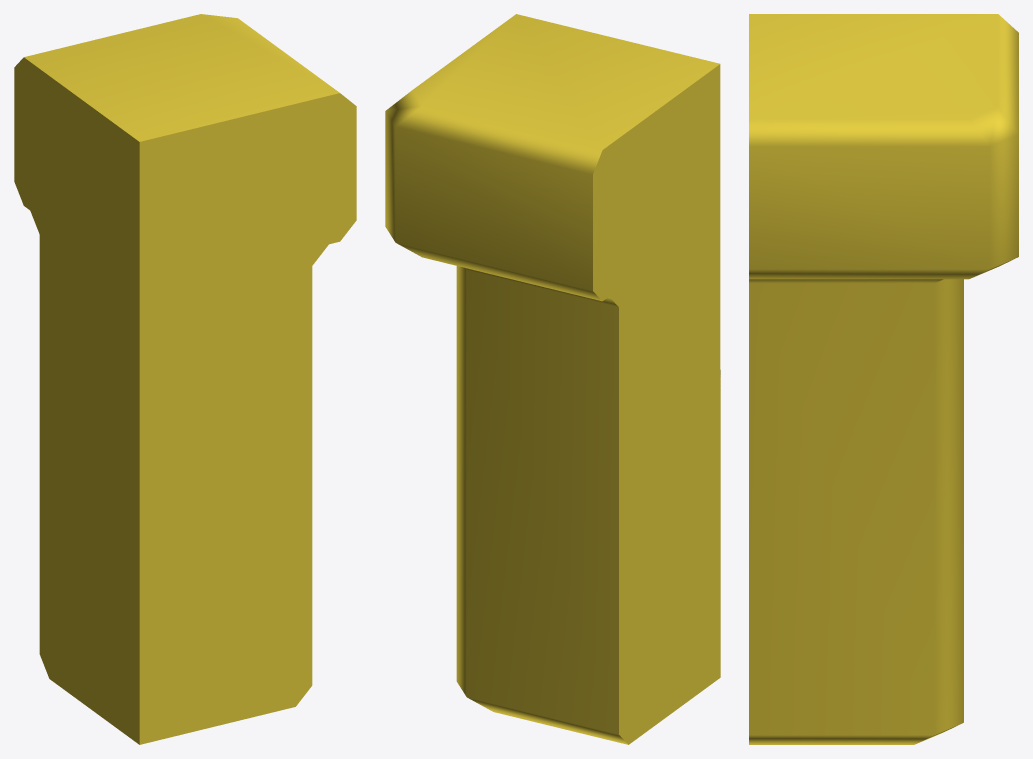
File: mod_sc_roma_001_railing_005.fbx
3 views of the same model, side by side, from view 1: azimuth 30°, elevation 25°; view 2: azimuth 150°, elevation 25°; view 3: azimuth 270°, elevation 25° (orthographic). The views are drawn at different scales.
Visible parts, largest first — view 1: mod_sc_roma_001_railing_005; view 2: mod_sc_roma_001_railing_005; view 3: mod_sc_roma_001_railing_005.
Boxes of the visible parts, box(x1,y1,x2,y2) form: mod_sc_roma_001_railing_005: box(14, 14, 356, 744); mod_sc_roma_001_railing_005: box(385, 14, 720, 744); mod_sc_roma_001_railing_005: box(749, 14, 1018, 744).
Size of what is drawn, in the model's own units: 37.69 by 100 by 37.69.
Materials: 1 (1 with a texture image).
